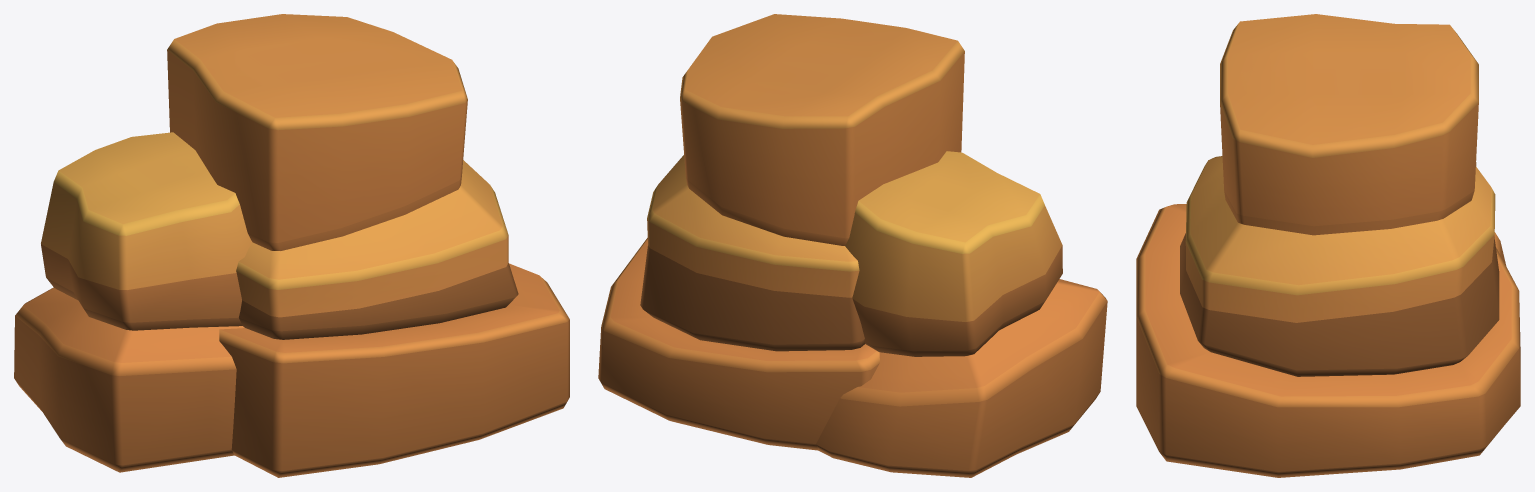
File: rock_formation_light_09.fbx
3 renders of one model, left to right at view 1: azimuth 30°, elevation 25°; view 2: azimuth 150°, elevation 25°; view 3: azimuth 270°, elevation 25°, orthographic.
Visible parts, largest first — view 1: rock_formation_light_09; view 2: rock_formation_light_09; view 3: rock_formation_light_09.
Part boxes in pixels (x1,y1,x2,y2): rock_formation_light_09: (14,14,569,477); rock_formation_light_09: (598,14,1107,477); rock_formation_light_09: (1136,14,1520,477).
Bounding box in the file's own units: 665 × 446 × 484.
